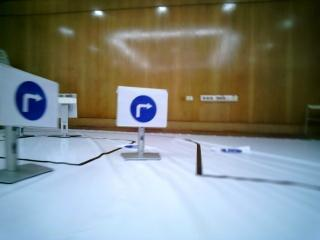right: (0, 64, 53, 127), (117, 88, 168, 128)
